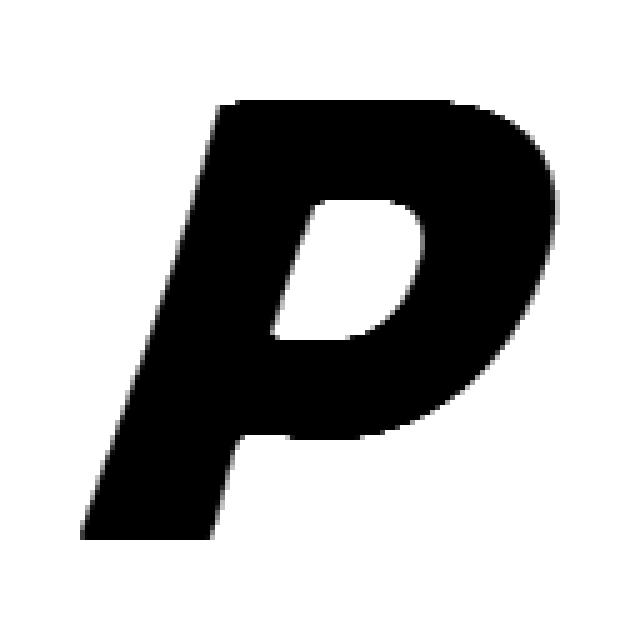P: (80, 100, 560, 545)
